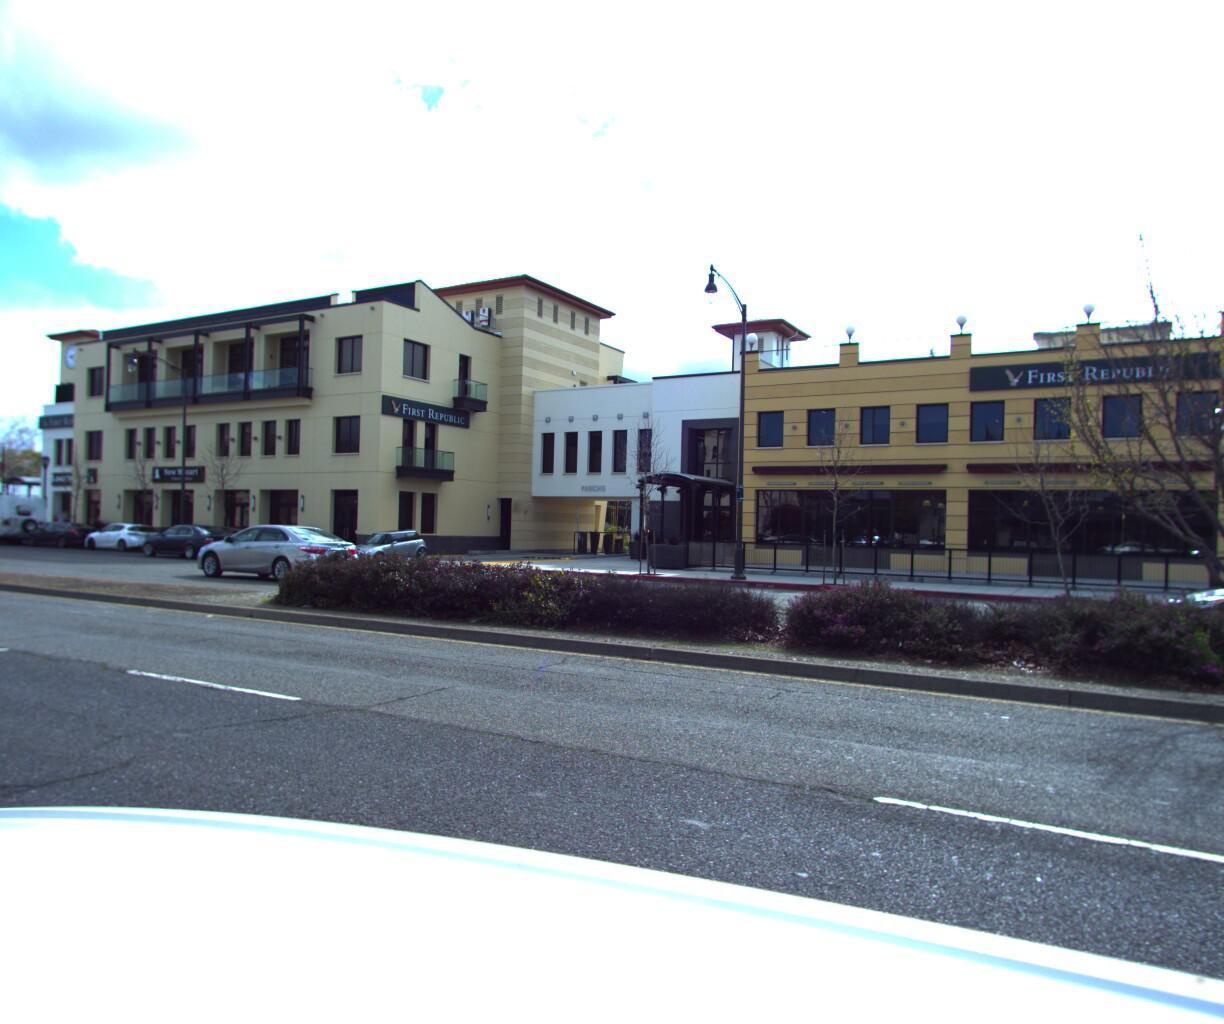car: (179, 526, 361, 593), (1162, 546, 1224, 715), (138, 529, 250, 570), (336, 529, 434, 570), (79, 525, 167, 559), (22, 525, 109, 556)
other_vehicle: (0, 493, 55, 553)
